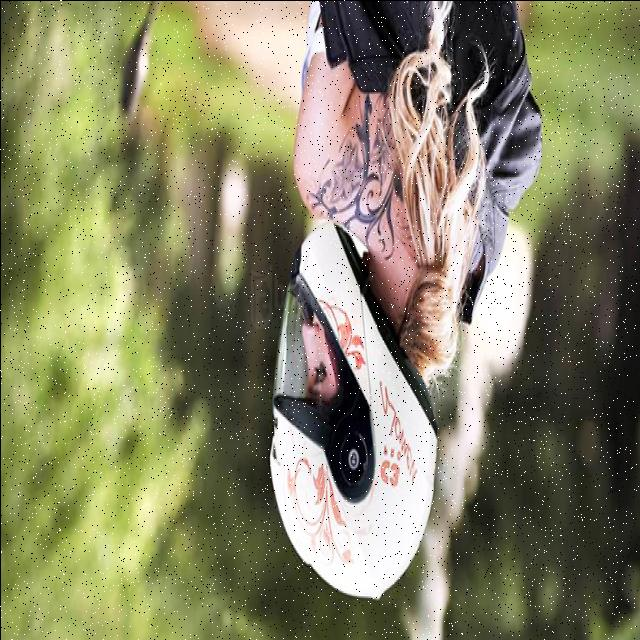Helmet: (267, 216, 439, 597)
